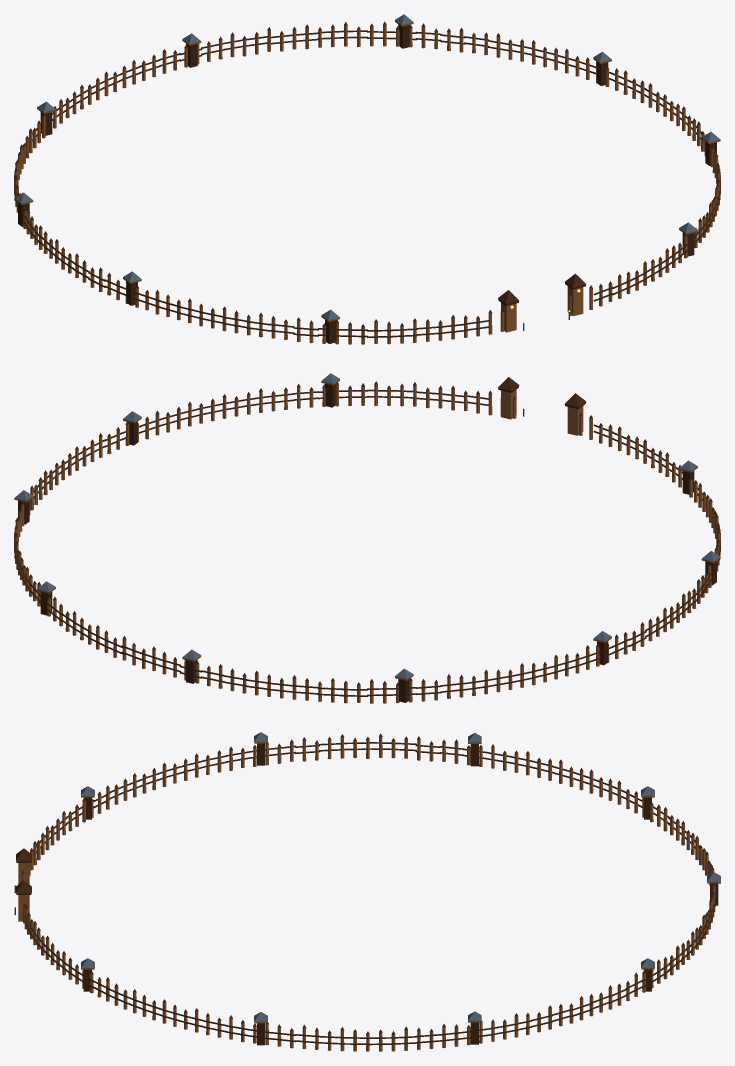
File: city_wall_t1.glb
The picture shows the model from 3 angles, top to bottom: view 1: azimuth 30°, elevation 25°; view 2: azimuth 150°, elevation 25°; view 3: azimuth 270°, elevation 25°; orthographic projection.
Parts seen in each view (by area): view 1: city_wall_t1; view 2: city_wall_t1; view 3: city_wall_t1.
Boxes of the visible parts, x1,y1,x2,y2 form: city_wall_t1: [14, 14, 720, 344]; city_wall_t1: [14, 373, 720, 703]; city_wall_t1: [14, 732, 720, 1051].
Bounding box in the file's own units: 92.62 × 6.06 × 93.96.
